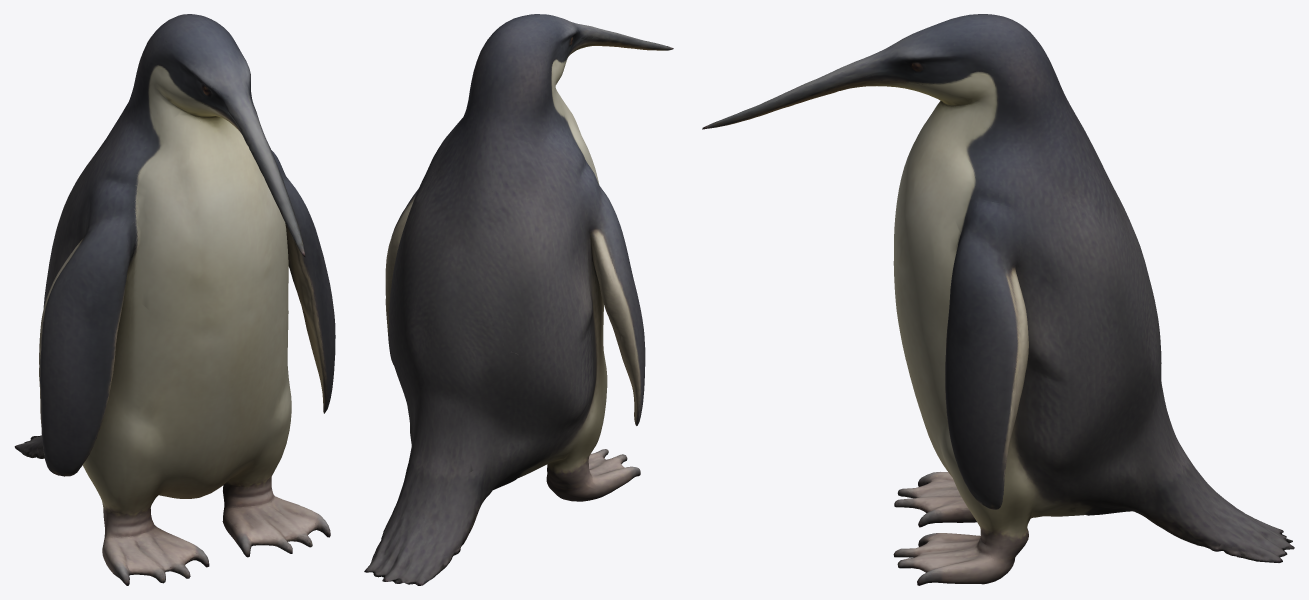
3 renders of one model, left to right at view 1: azimuth 30°, elevation 25°; view 2: azimuth 150°, elevation 25°; view 3: azimuth 270°, elevation 25°, orthographic. The views are drawn at different scales.
Visible parts, largest first — view 1: world; view 2: world; view 3: world.
Boxes of the visible parts, box(x1,y1,x2,y2) form: world: box(14, 14, 335, 585); world: box(364, 14, 673, 585); world: box(702, 14, 1294, 585).
Bounding box in the file's own units: 0.8583 × 1.5 × 1.52.
Materials: 1 (1 with a texture image).
